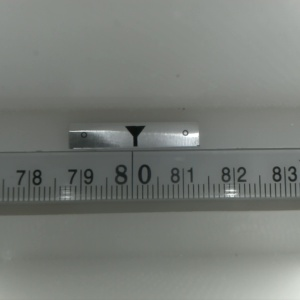0: (137, 164, 152, 184)
1: (186, 167, 193, 182)
2: (236, 167, 246, 182)
3: (286, 165, 297, 182)
7: (66, 169, 77, 185), (14, 170, 25, 186)
8: (114, 164, 127, 185), (31, 169, 42, 186), (169, 167, 179, 183), (271, 166, 281, 182), (221, 167, 230, 182)
9: (82, 168, 93, 185)
finger: (123, 125, 146, 146)
